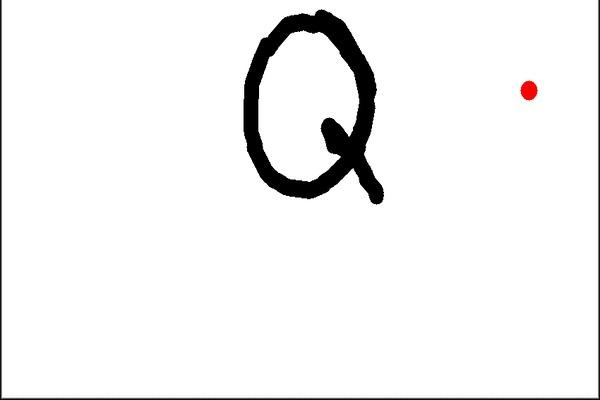Q: (230, 2, 392, 211)
